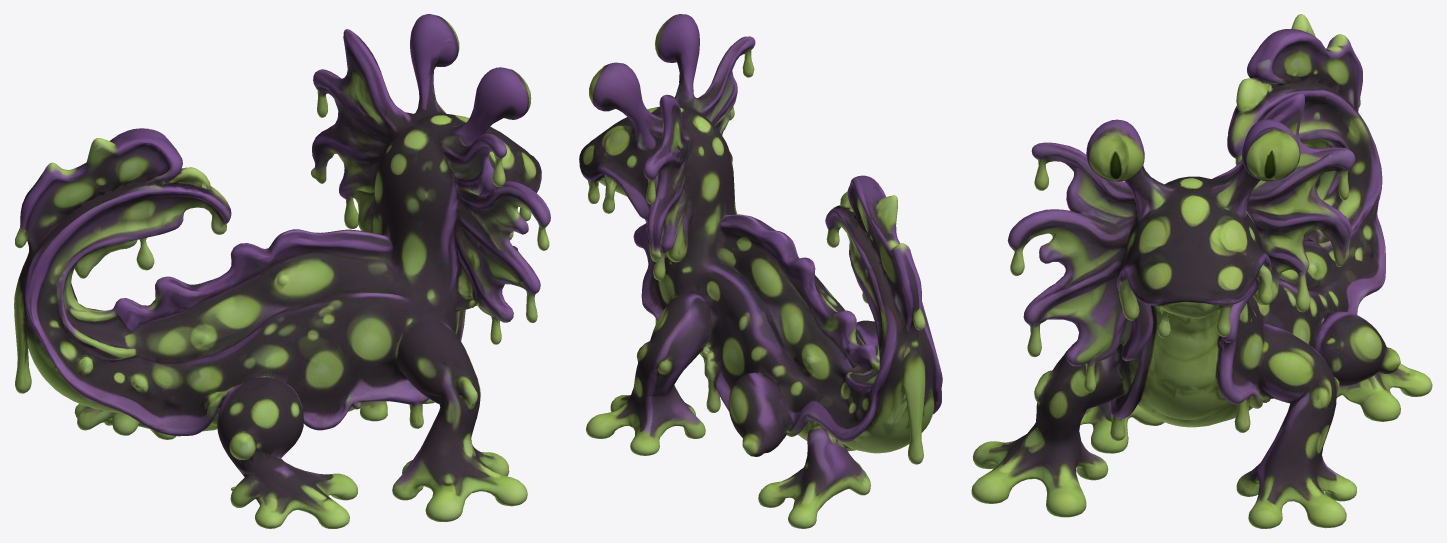
Rendered from n4_neonmire.62615360.glb.
3 views of the same model, side by side, from view 1: azimuth 30°, elevation 25°; view 2: azimuth 150°, elevation 25°; view 3: azimuth 270°, elevation 25° (orthographic). The views are drawn at different scales.
Parts seen in each view (by area): view 1: tripo_node_1b5574f3-5905-4dca-b24b-967f518e2c0e; view 2: tripo_node_1b5574f3-5905-4dca-b24b-967f518e2c0e; view 3: tripo_node_1b5574f3-5905-4dca-b24b-967f518e2c0e.
Part boxes in pixels (x1,y1,x2,y2): tripo_node_1b5574f3-5905-4dca-b24b-967f518e2c0e: (14,14,550,528); tripo_node_1b5574f3-5905-4dca-b24b-967f518e2c0e: (579,14,942,528); tripo_node_1b5574f3-5905-4dca-b24b-967f518e2c0e: (971,14,1432,528).
Bounding box in the file's own units: 0.9993 × 0.8294 × 0.8353.
1 material, 1 textured.
